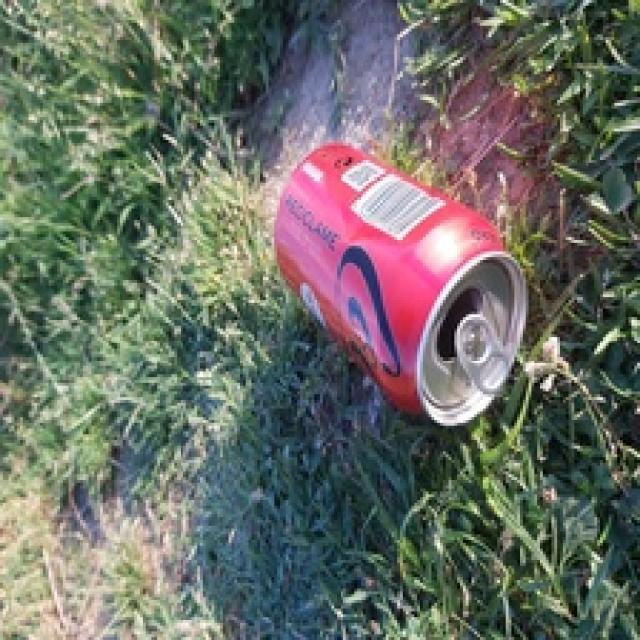recyclable: (266, 135, 532, 428)
